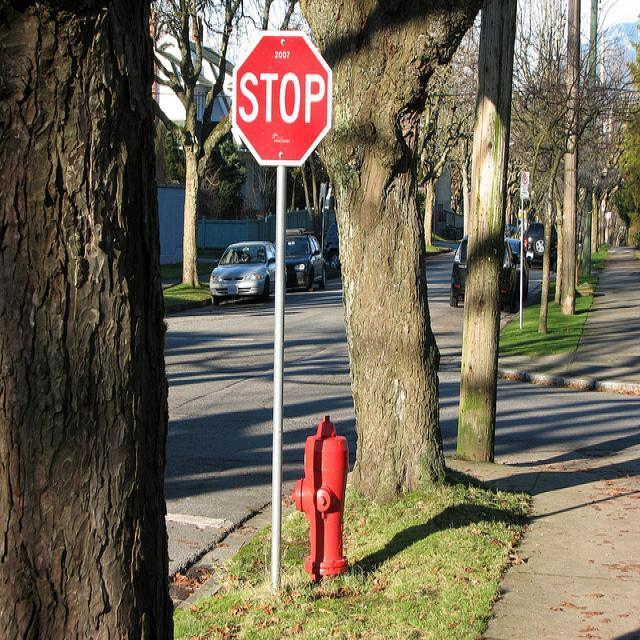fire_hydrant: (290, 414, 350, 576)
